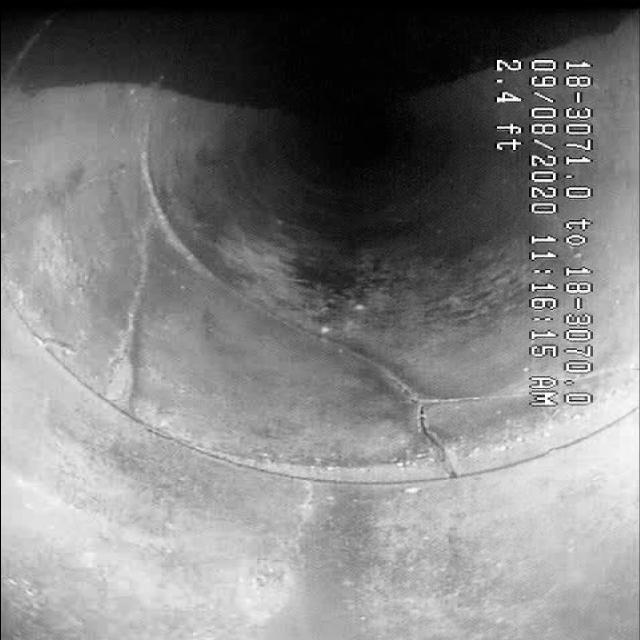Crack: (64, 134, 463, 492)
